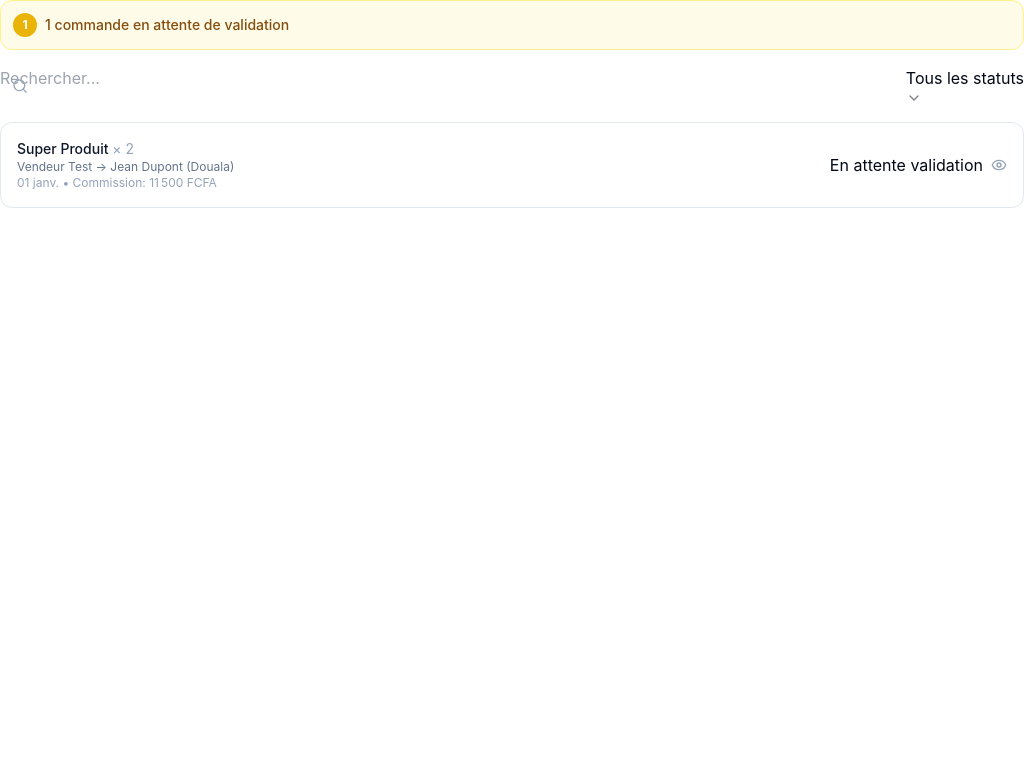
Test: CommandesVendeurs — édition livraison par l'admin › persiste les modifications et les ré-affiche après rechargement
The width and height of the screenshot is (1024, 768).
Click the text "Super Produit × 2": [75, 148] box x1=17 y1=140 x2=134 y2=157
(page scrolled)
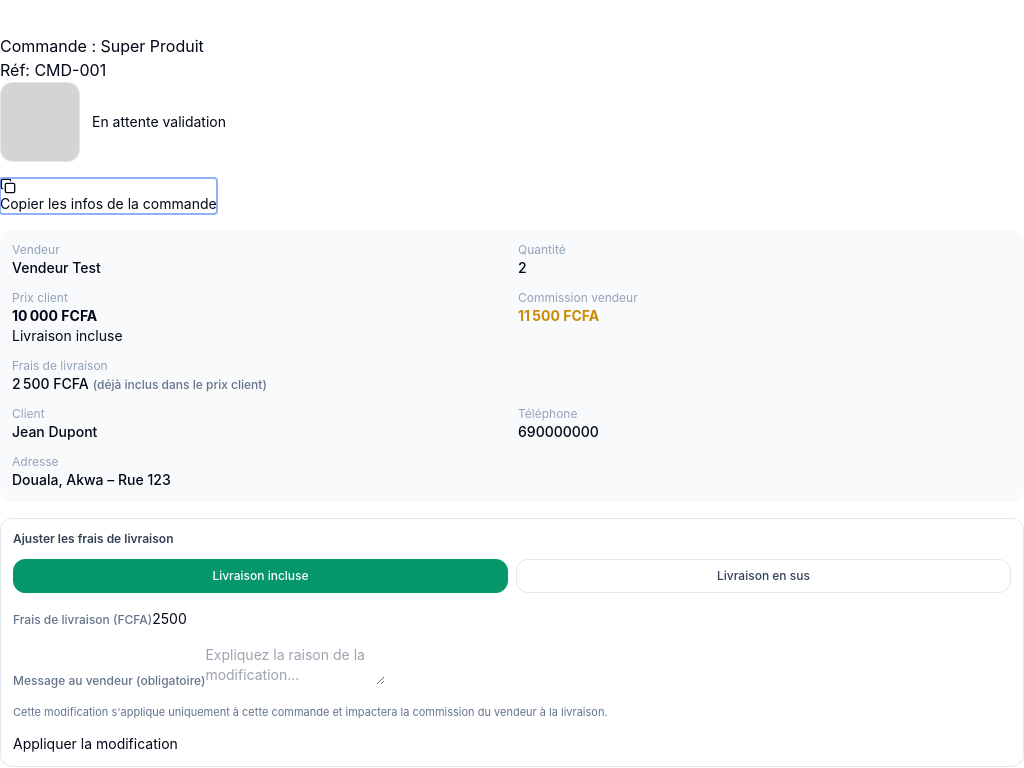
Result: the text "Ajuster les frais de livraison" is shown at x1=13 y1=531 x2=174 y2=546
Result: the number field with placeholder "0" holds "2500" at x1=152 y1=609 x2=370 y2=629
Result: the text "(déjà inclus dans le prix client)" is shown at x1=93 y1=377 x2=267 y2=392
